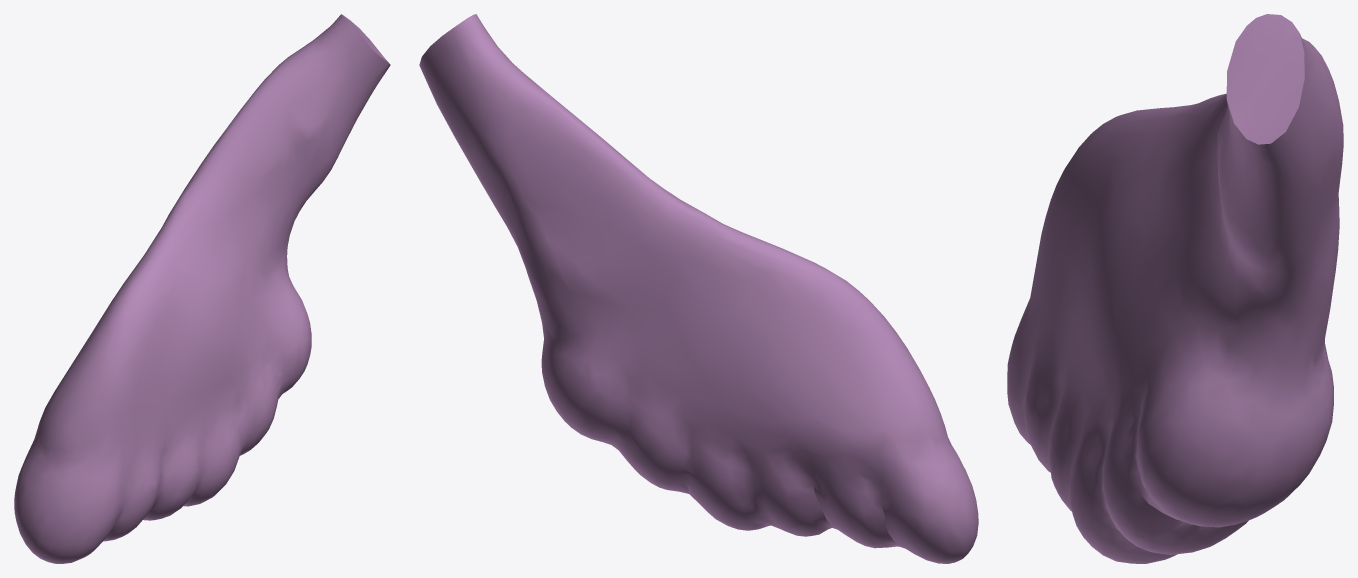
3 views of the same model, side by side, from view 1: azimuth 30°, elevation 25°; view 2: azimuth 150°, elevation 25°; view 3: azimuth 270°, elevation 25° (orthographic). The views are drawn at different scales.
Visible parts, largest first — view 1: 右侧绒球; view 2: 右侧绒球; view 3: 右侧绒球.
Boxes of the visible parts, left/top/right/bottom form: 右侧绒球: left=14, top=14, right=390, bottom=563; 右侧绒球: left=419, top=14, right=978, bottom=563; 右侧绒球: left=1007, top=14, right=1343, bottom=563.
Size of the model in its own units: 0.0271 by 0.0261 by 0.011.
